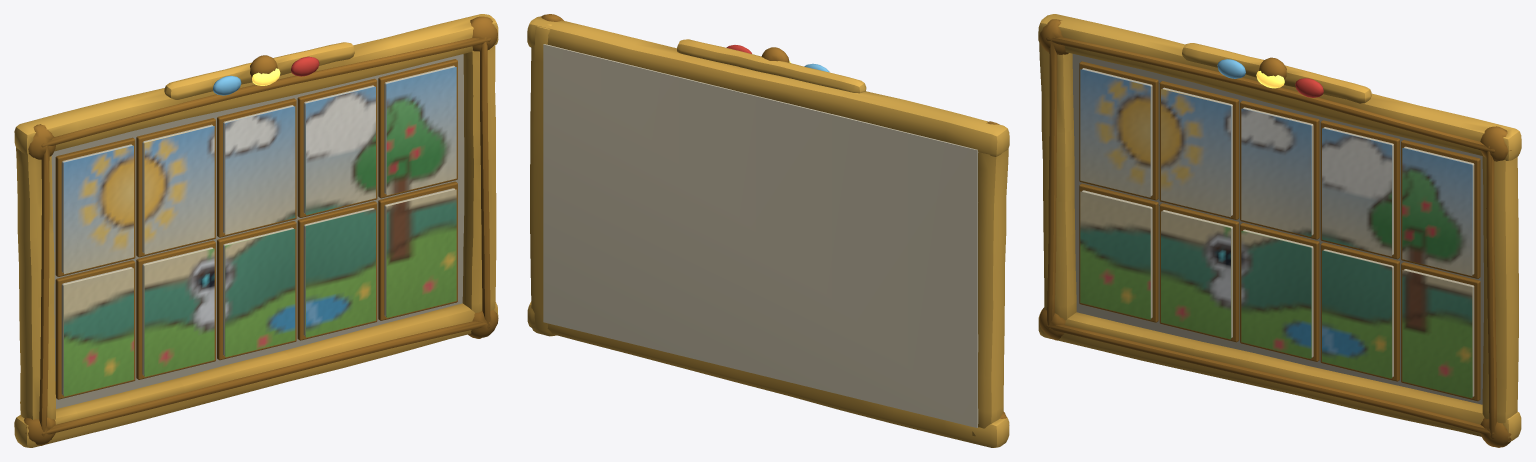
Rendered from int_mosaic_frame.glb.
The picture shows the model from 3 angles, left to right: view 1: azimuth 30°, elevation 25°; view 2: azimuth 150°, elevation 25°; view 3: azimuth 330°, elevation 25°; orthographic projection.
Visible parts, largest first — view 1: int_mosaic_frame, tile_9, tile_2, tile_3, tile_7, tile_4, tile_6, tile_1, tile_8, tile_0, tile_5; view 2: int_mosaic_frame; view 3: int_mosaic_frame, tile_0, tile_5, tile_2, tile_4, tile_7, tile_9, tile_3, tile_6, tile_1, tile_8.
Part boxes in pixels (x1=…): int_mosaic_frame: x1=14, y1=14, x2=498, y2=447; tile_9: x1=384, y1=188, x2=456, y2=317; tile_2: x1=223, y1=105, x2=295, y2=234; tile_3: x1=303, y1=85, x2=375, y2=214; tile_7: x1=223, y1=227, x2=295, y2=357; tile_4: x1=384, y1=65, x2=456, y2=195; tile_6: x1=142, y1=247, x2=214, y2=376; tile_1: x1=142, y1=124, x2=214, y2=254; tile_8: x1=303, y1=208, x2=375, y2=337; tile_0: x1=61, y1=144, x2=133, y2=274; tile_5: x1=61, y1=267, x2=133, y2=396; int_mosaic_frame: x1=527, y1=14, x2=1009, y2=447; int_mosaic_frame: x1=1038, y1=14, x2=1521, y2=447; tile_0: x1=1080, y1=68, x2=1152, y2=197; tile_5: x1=1080, y1=190, x2=1152, y2=319; tile_2: x1=1241, y1=107, x2=1313, y2=236; tile_4: x1=1402, y1=146, x2=1474, y2=275; tile_7: x1=1241, y1=229, x2=1313, y2=358; tile_9: x1=1402, y1=269, x2=1474, y2=398; tile_3: x1=1322, y1=127, x2=1393, y2=256; tile_6: x1=1161, y1=210, x2=1232, y2=339; tile_1: x1=1161, y1=87, x2=1232, y2=217; tile_8: x1=1322, y1=249, x2=1393, y2=378.
Bounding box in the file's own units: 7.33 × 4.97 × 0.558.
